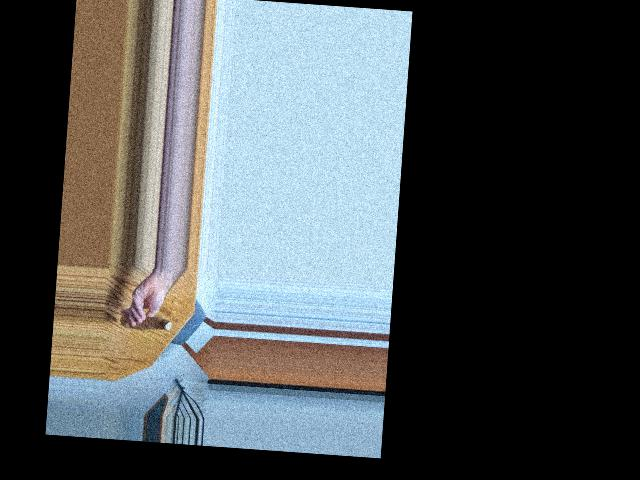sweet_potato: (123, 311, 169, 336)
